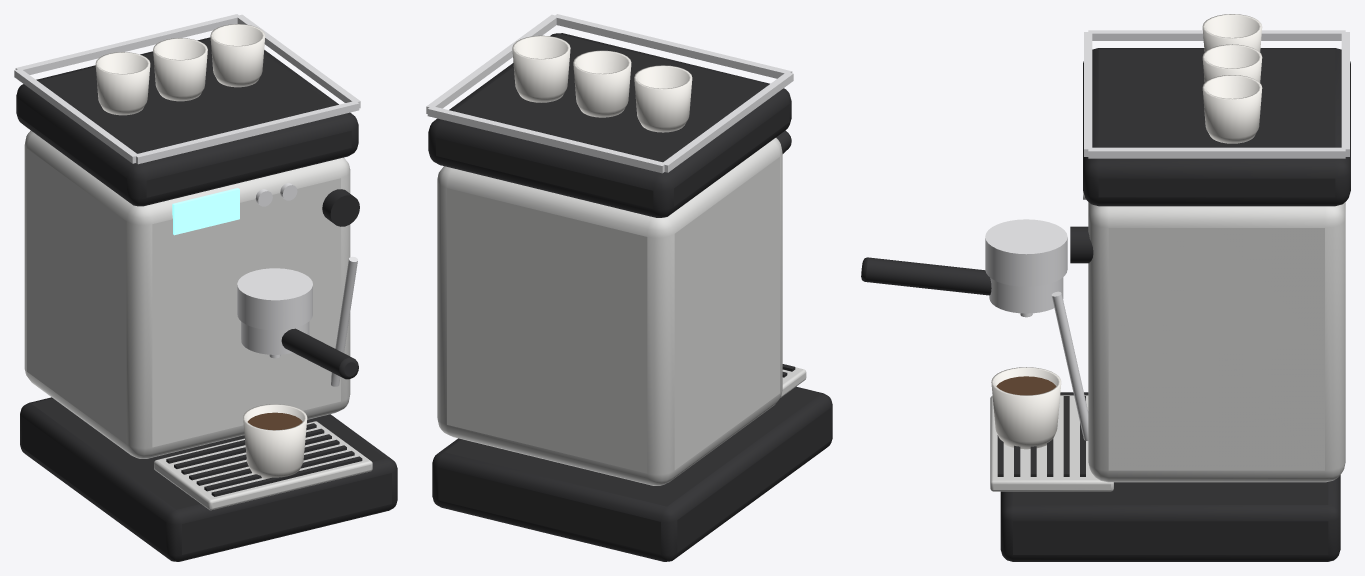
File: espresso.glb
3 views of the same model, side by side, from view 1: azimuth 30°, elevation 25°; view 2: azimuth 150°, elevation 25°; view 3: azimuth 270°, elevation 25° (orthographic). The views are drawn at different scales.
Parts seen in each view (by area): view 1: steel_brushed2, espresso_black, chrome, cup_white, espresso_display, coffee; view 2: steel_brushed2, espresso_black, cup_white, chrome; view 3: steel_brushed2, espresso_black, chrome, cup_white, coffee.
Boxes of the visible parts, x1,y1,x2,y2 form: steel_brushed2: (24, 130, 372, 510); espresso_black: (16, 37, 397, 561); chrome: (14, 14, 360, 386); cup_white: (95, 24, 307, 478); espresso_display: (172, 188, 239, 235); coffee: (247, 412, 302, 430); steel_brushed2: (437, 138, 806, 485); espresso_black: (428, 33, 832, 561); cup_white: (512, 35, 692, 132); chrome: (426, 14, 793, 173); steel_brushed2: (990, 202, 1345, 491); espresso_black: (861, 48, 1350, 561); chrome: (985, 30, 1349, 440); cup_white: (991, 14, 1262, 449); coffee: (996, 376, 1056, 395).
Bounding box in the file's own units: 0.28 × 0.48 × 0.4755.
